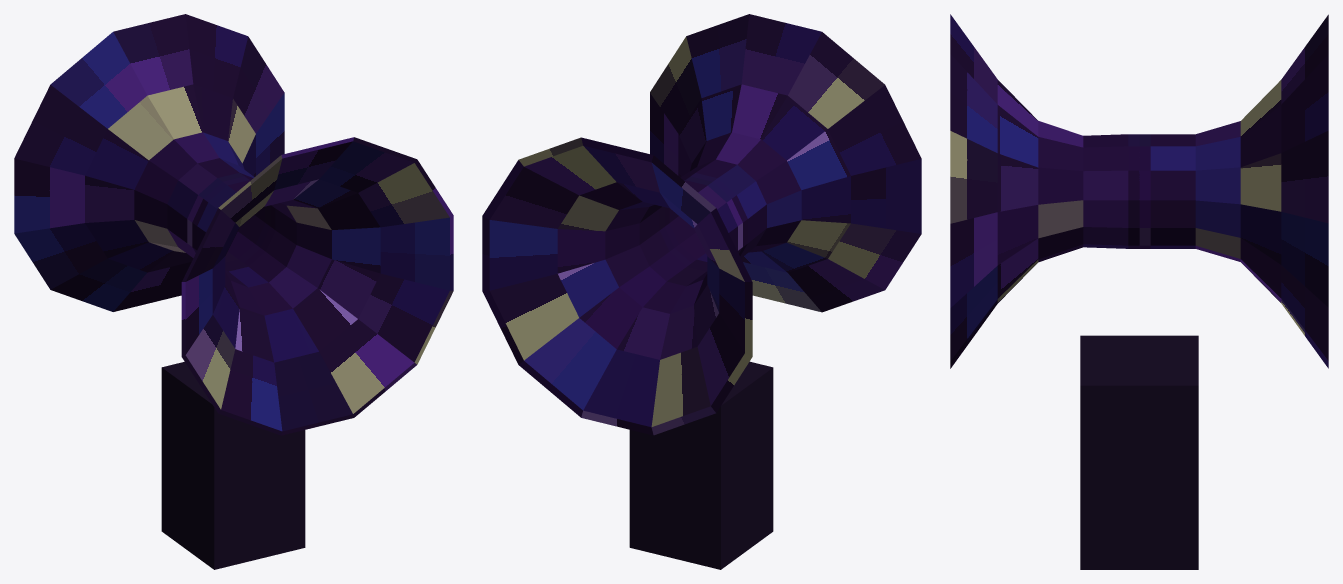
File: Wormhole.gltf
The picture shows the model from 3 angles, left to right: view 1: azimuth 30°, elevation 25°; view 2: azimuth 150°, elevation 25°; view 3: azimuth 270°, elevation 25°; orthographic projection. The views are drawn at different scales.
Parts seen in each view (by area): view 1: tube, cube; view 2: tube, cube; view 3: tube, cube.
Part boxes in pixels (box(x1,y1,x2,y2)): tube: box(14, 14, 453, 435); cube: box(161, 362, 305, 569); tube: box(482, 14, 921, 435); cube: box(629, 361, 773, 569); tube: box(950, 14, 1328, 368); cube: box(1080, 335, 1198, 569).
Size of the model in its own units: 0.4661 by 0.7456 by 0.5.
2 materials, 2 textured.
